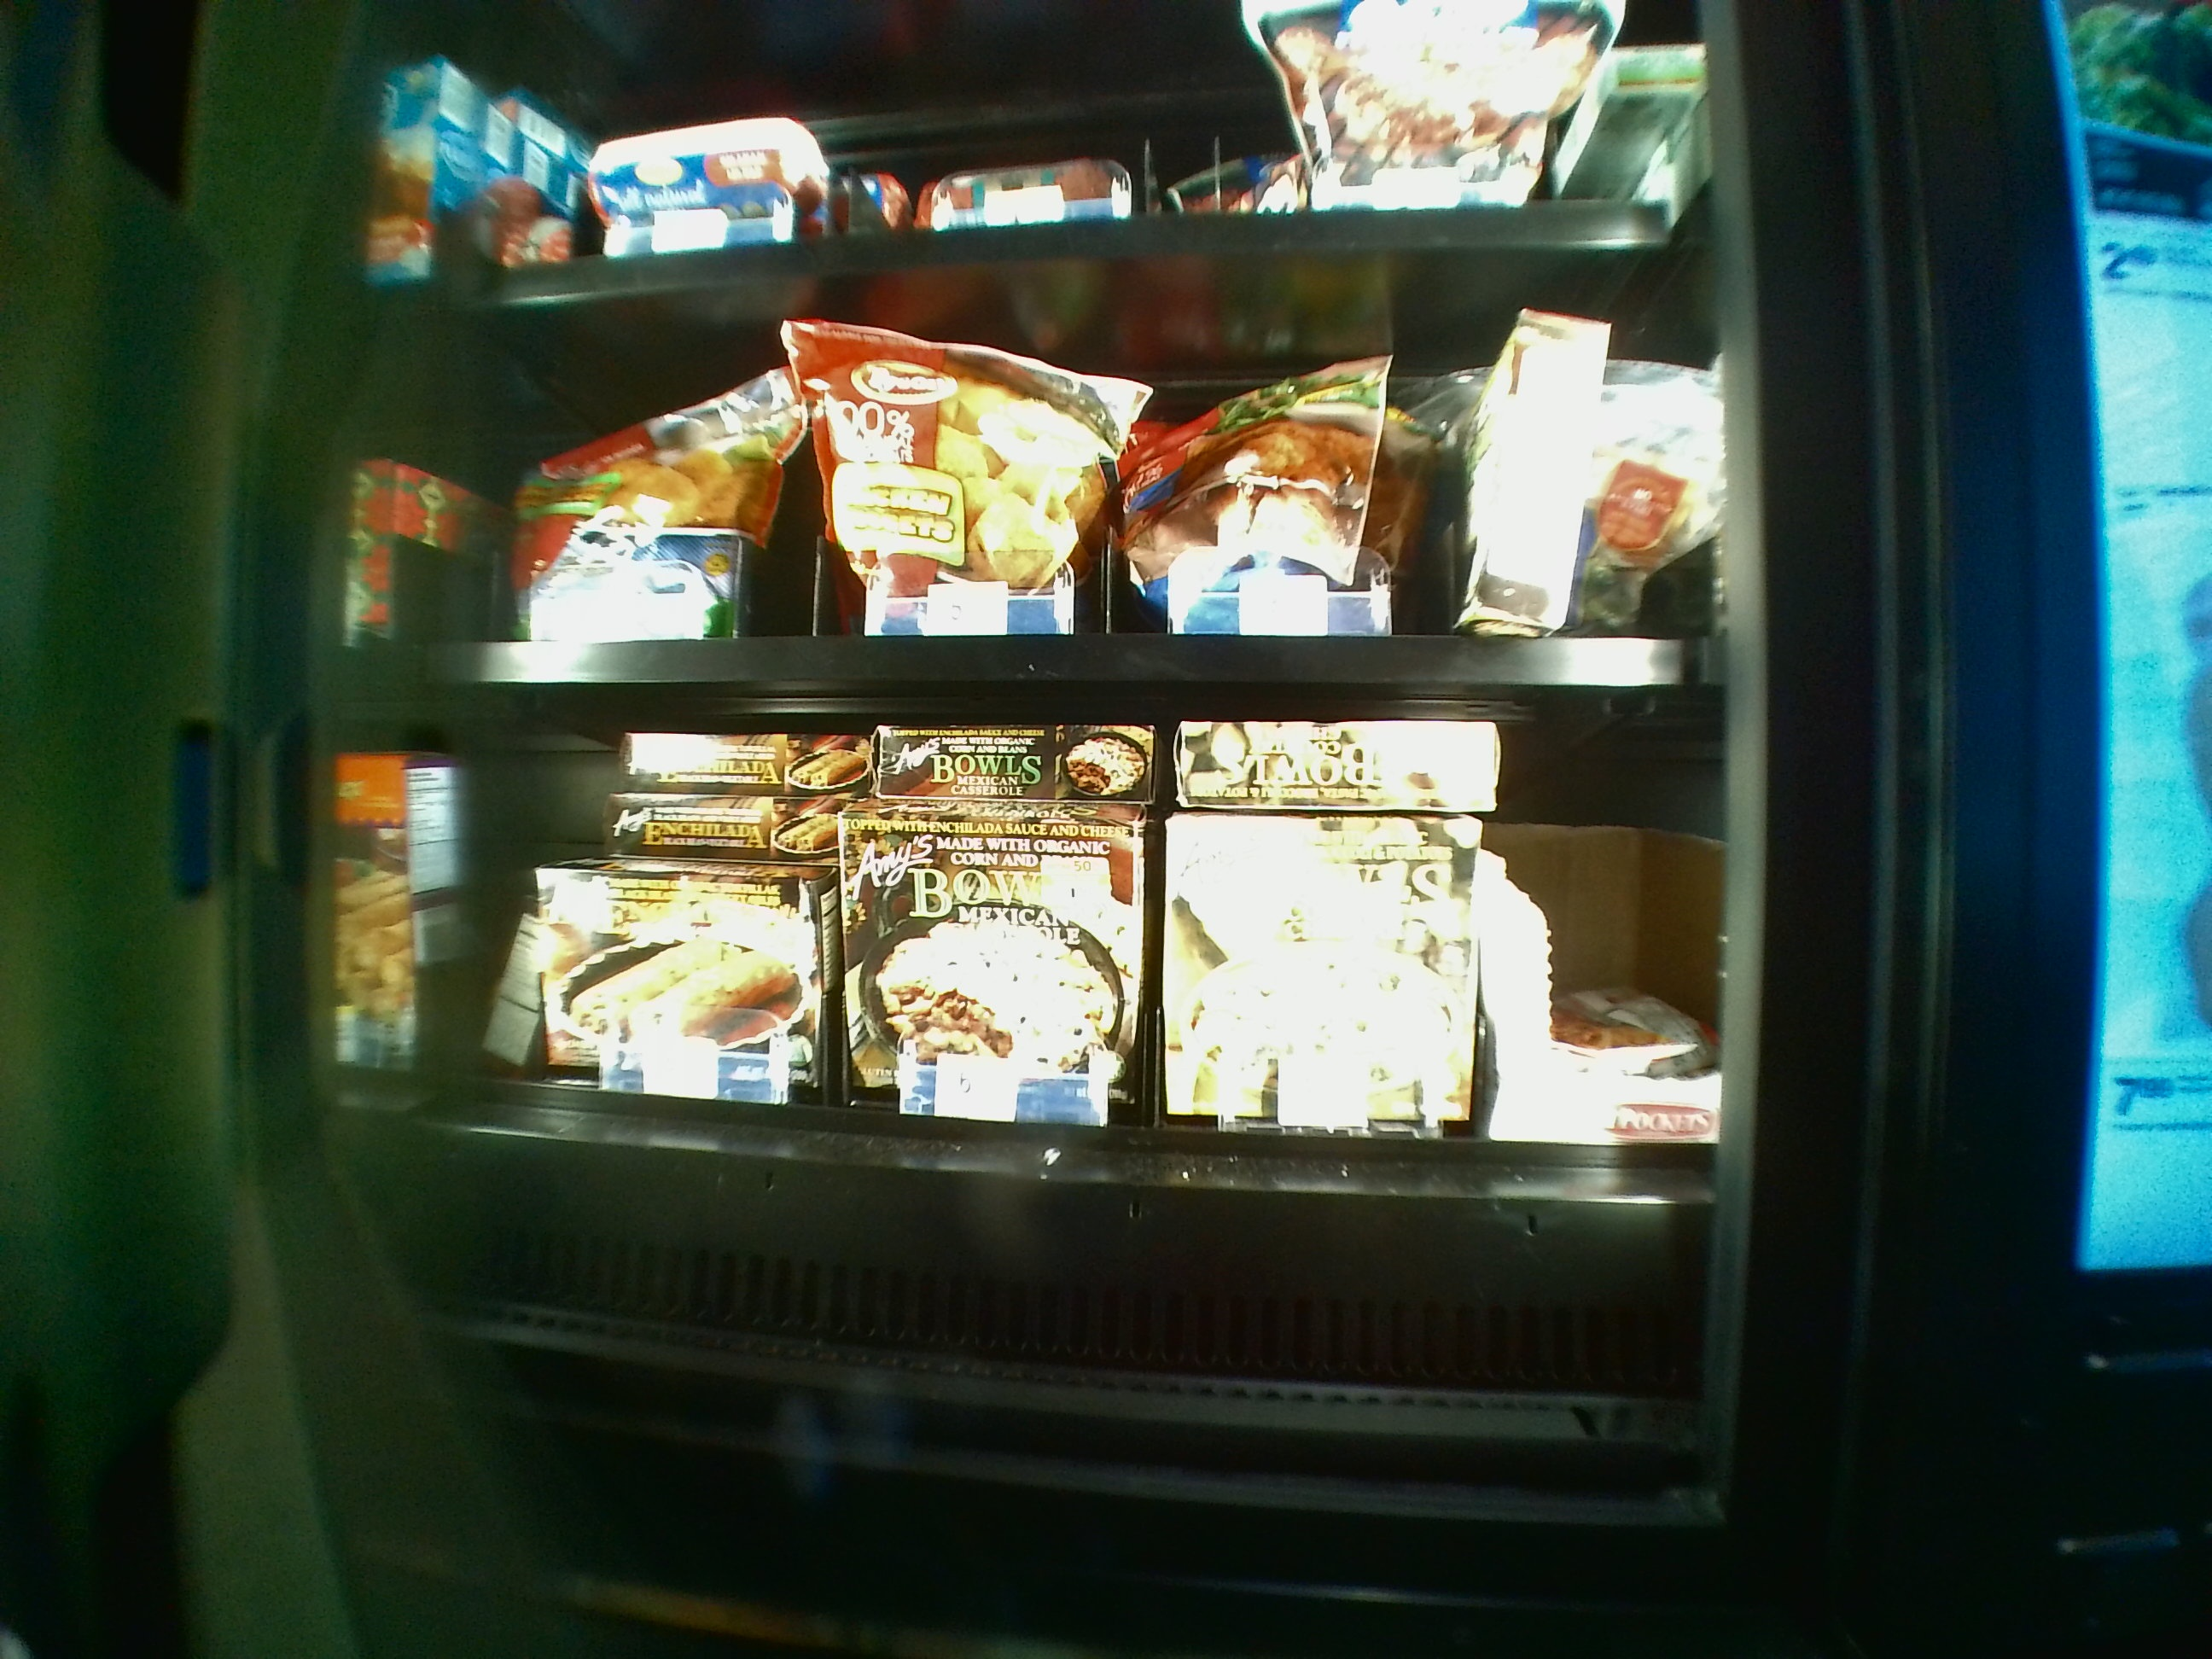shelf: (347, 702, 1703, 1412), (347, 247, 1702, 683)
